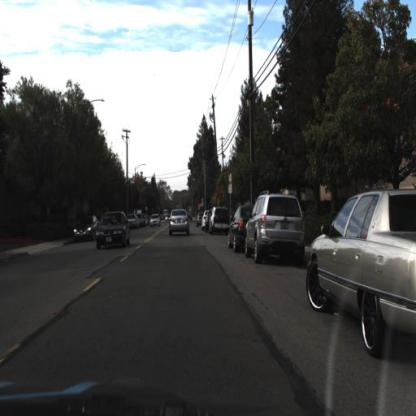car: (305, 188, 416, 358), (244, 191, 308, 264), (95, 208, 131, 250), (228, 202, 248, 257), (70, 215, 102, 244), (208, 204, 233, 240), (170, 208, 191, 235)
